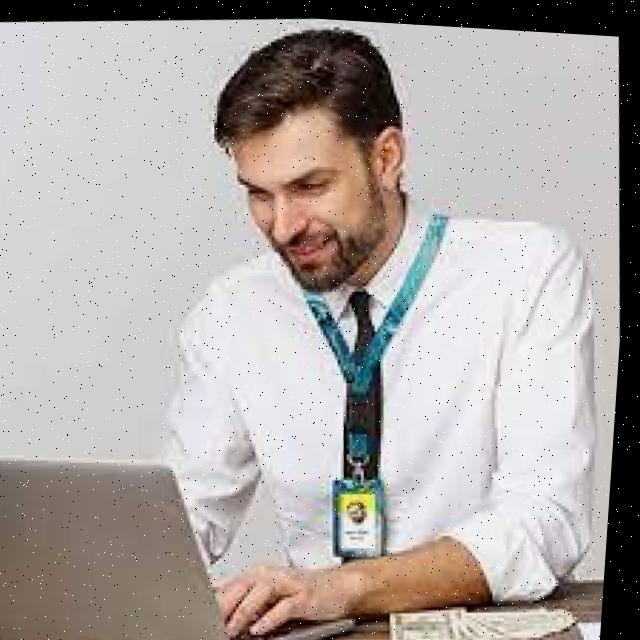id_card: (281, 242, 464, 556)
